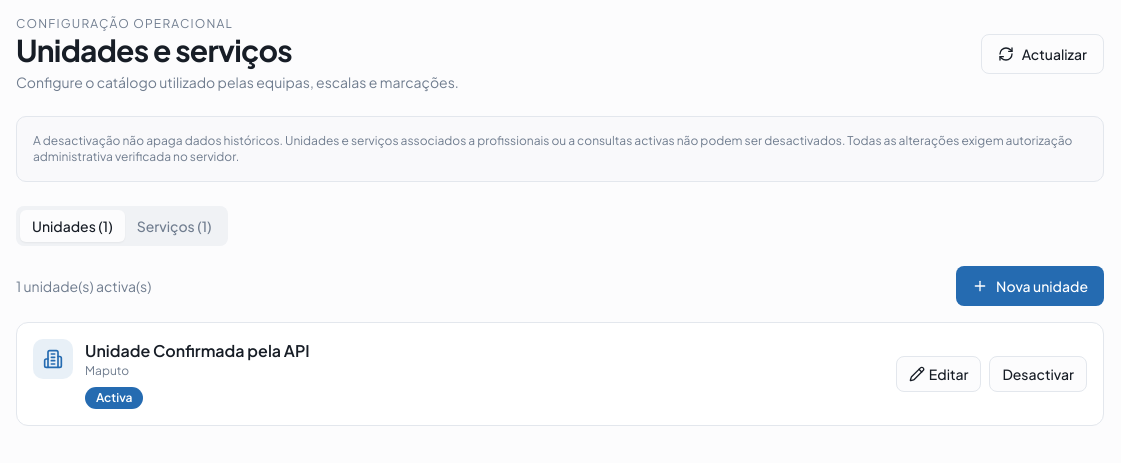
Test: clinic catalog admin page › uses tenant-backed units/services and never displays demo catalog
The width and height of the screenshot is (1121, 463).
Expected: the text "Unidade Confirmada pela API" is shown, [85,339,310,363]
Press the mouse on the tab "Serviços (1)" at point(174, 226), box [125,210,224,242]
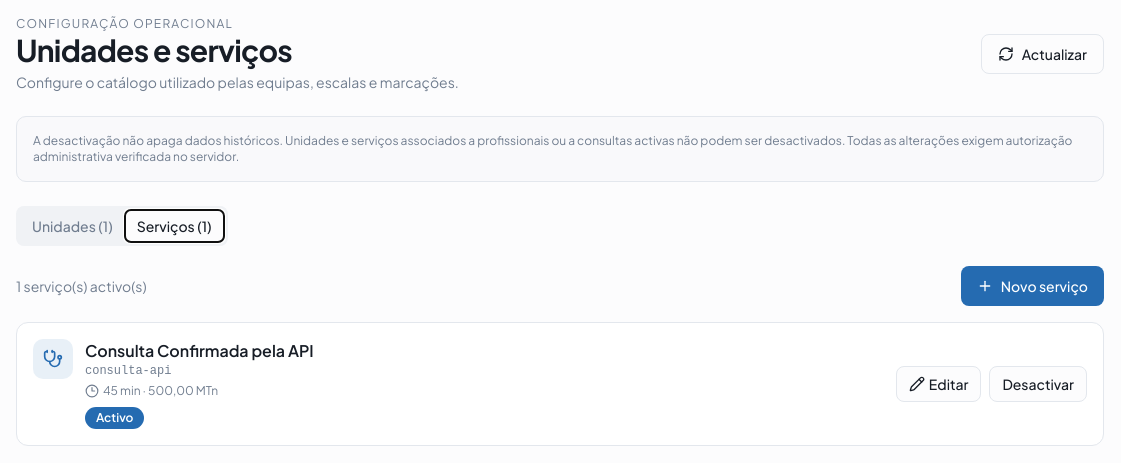
Expected: the text "Consulta Confirmada pela API" is shown, [85,339,314,363]
